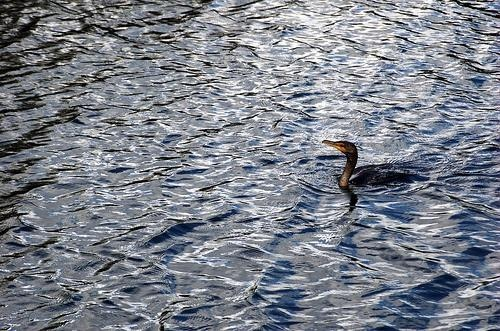bird: (322, 139, 416, 189)
